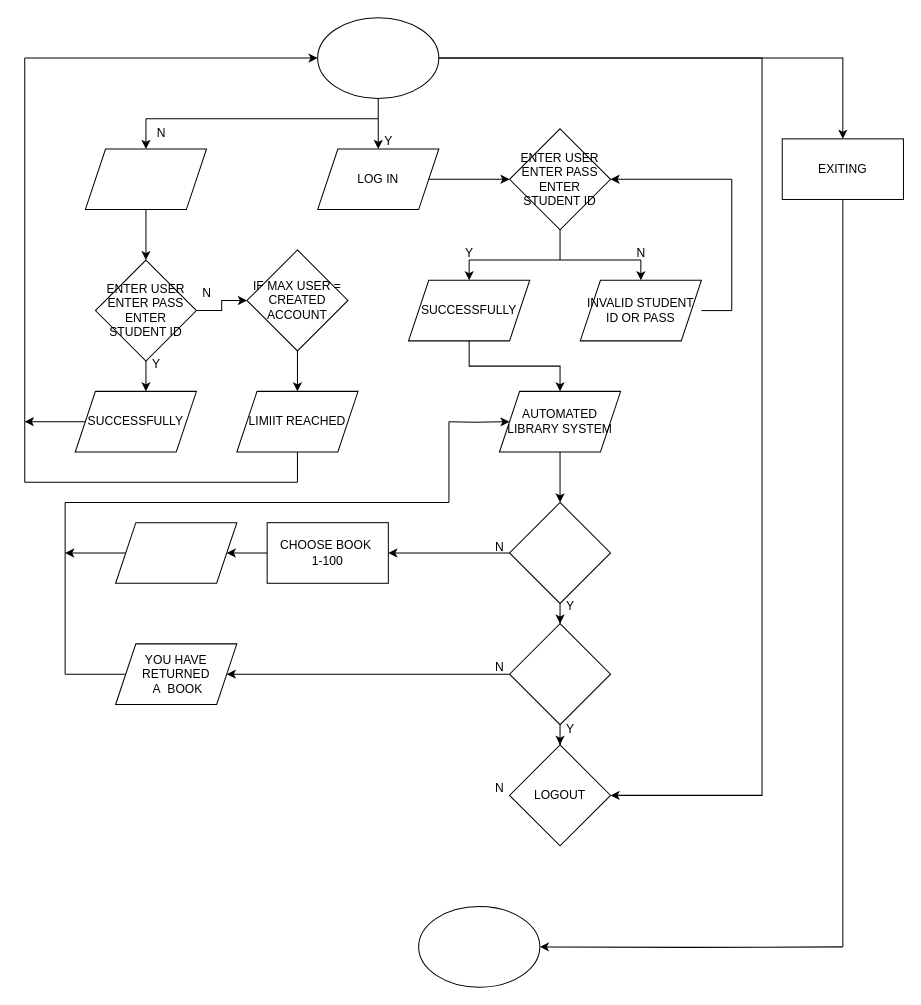
This 921x1005 diagram has some shape labels left out. Here are the shapes that lost their labels. From the top down, the centre of each, then its label:
At point (378, 57): "START".
At point (145, 179): "CREATE ACCOUNT".
At point (176, 552): "YOU HAVE BORROW A BOOK".
At point (560, 552): "BORROW A BOOK".
At point (560, 674): "RETURN A BOOK".
At point (479, 946): "EXIT".
